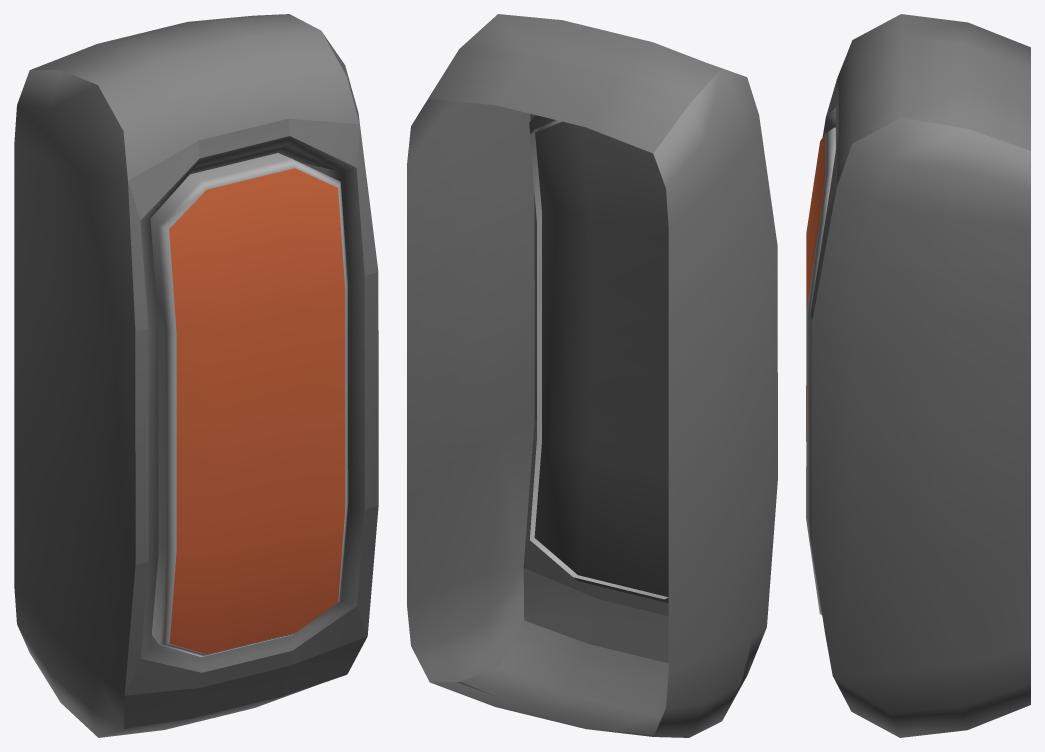
Rendered from bus_stopButton_mdl.fbx.
3 renders of one model, left to right at view 1: azimuth 30°, elevation 25°; view 2: azimuth 150°, elevation 25°; view 3: azimuth 270°, elevation 25°, orthographic. The views are drawn at different scales.
Parts seen in each view (by area): view 1: stopButton_geo; view 2: stopButton_geo; view 3: stopButton_geo.
Part boxes in pixels (<box>): stopButton_geo: <box>14,14,378,737</box>; stopButton_geo: <box>407,14,777,737</box>; stopButton_geo: <box>806,14,1030,737</box>.
Size of the model in its own units: 4.71 by 11.1 by 3.53.
